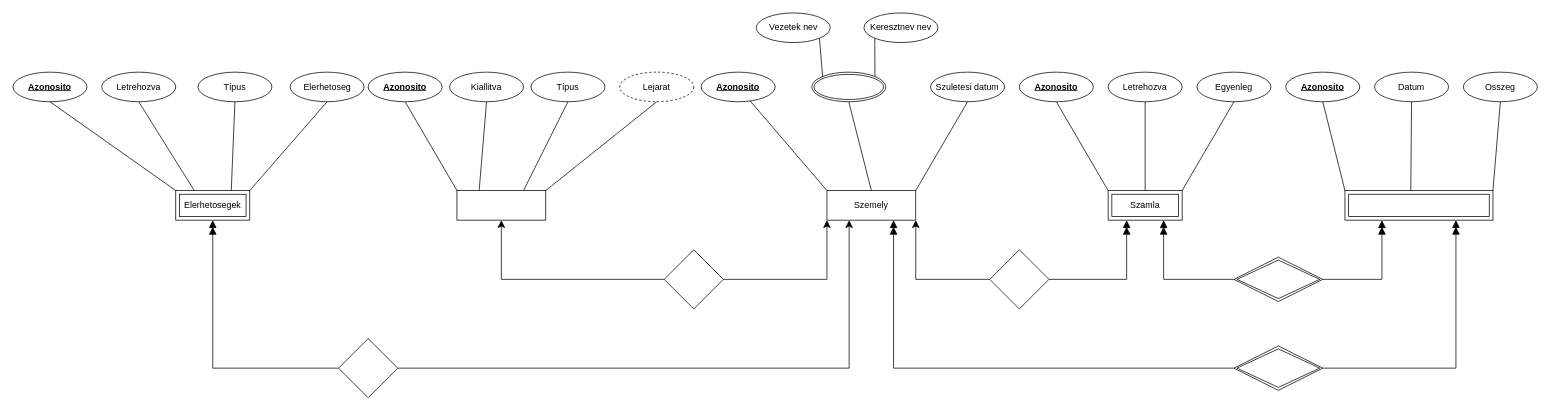
Some shapes in this 1550 by 411 pixel diagram are drawn without their labels. Here are the shapes that lost their labels. From the top down, the centre of each, then its label:
At point 848,86: "Teljes nev".
At point 501,205: "Okirat (igazolvany)".
At point 1418,205: "Tranzakcio (Penzmozgatas)".
At point 693,279: "Rendelkezik".
At point 1019,279: "Tulajdonos".
At point 1278,279: "Honnan - Hova".
At point 368,368: "Adott".
At point 1278,367: "Kitol - Kihez".
